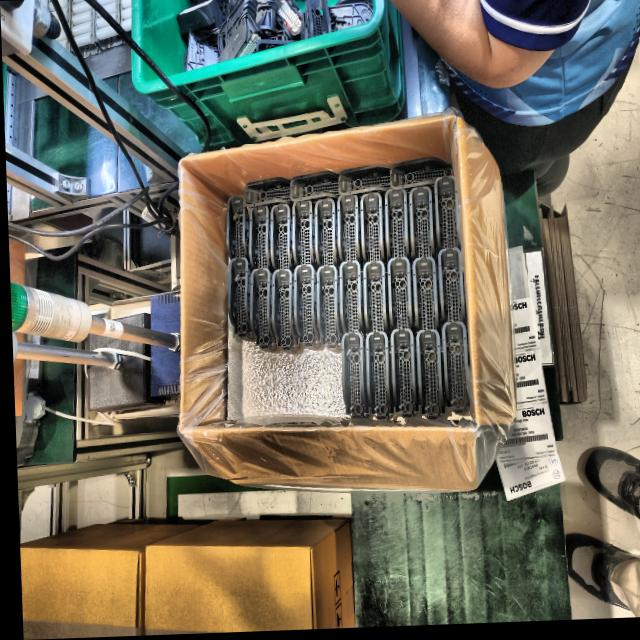P38: (413, 331, 442, 422), (388, 331, 416, 421), (411, 259, 441, 343), (439, 324, 466, 417), (363, 334, 391, 423), (314, 267, 342, 355), (338, 334, 366, 421), (247, 268, 275, 354), (291, 266, 319, 352), (225, 258, 253, 343), (386, 259, 415, 339), (270, 270, 297, 355), (361, 263, 389, 344), (337, 262, 365, 341), (336, 195, 364, 274), (407, 188, 435, 266), (436, 250, 464, 327), (388, 159, 453, 192), (383, 191, 410, 270), (432, 178, 459, 255), (290, 201, 316, 277), (268, 205, 294, 278), (247, 206, 272, 281), (337, 165, 389, 201), (313, 200, 338, 273), (225, 194, 249, 268), (288, 172, 338, 207), (359, 194, 384, 264), (242, 178, 292, 210)
